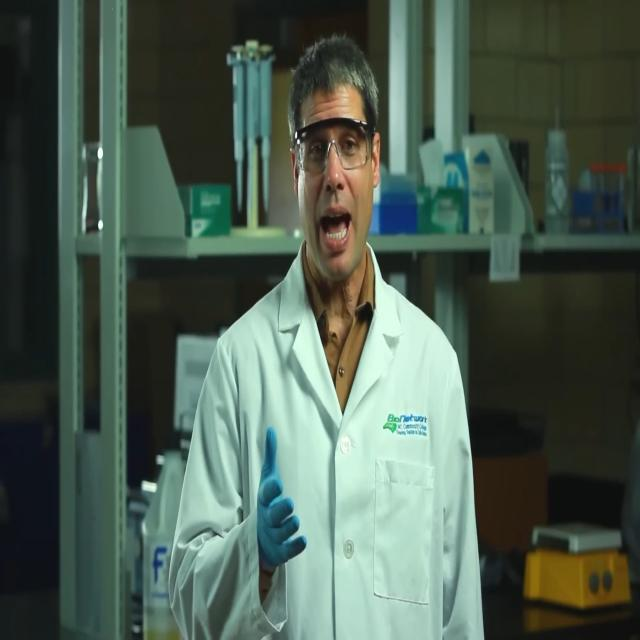googles: (289, 112, 380, 180)
labcoat: (166, 233, 489, 640)
